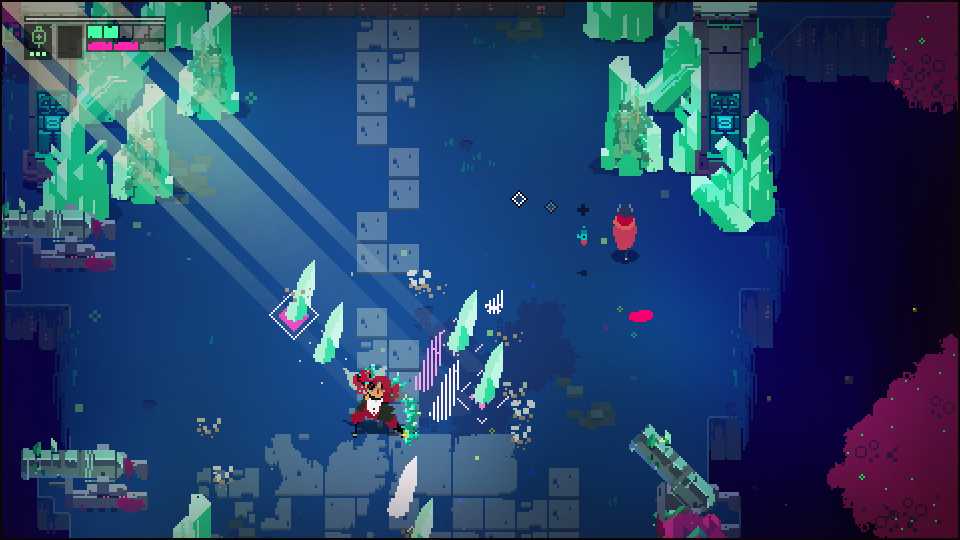hanged_crys: (283, 257, 316, 322), (385, 456, 419, 519), (475, 340, 510, 401), (448, 292, 480, 352), (318, 299, 347, 361), (412, 497, 442, 540)
hanged_man: (343, 363, 422, 455)
player: (609, 197, 640, 267)
